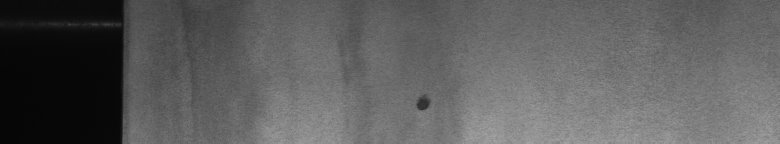fi: (412, 88, 436, 116)
